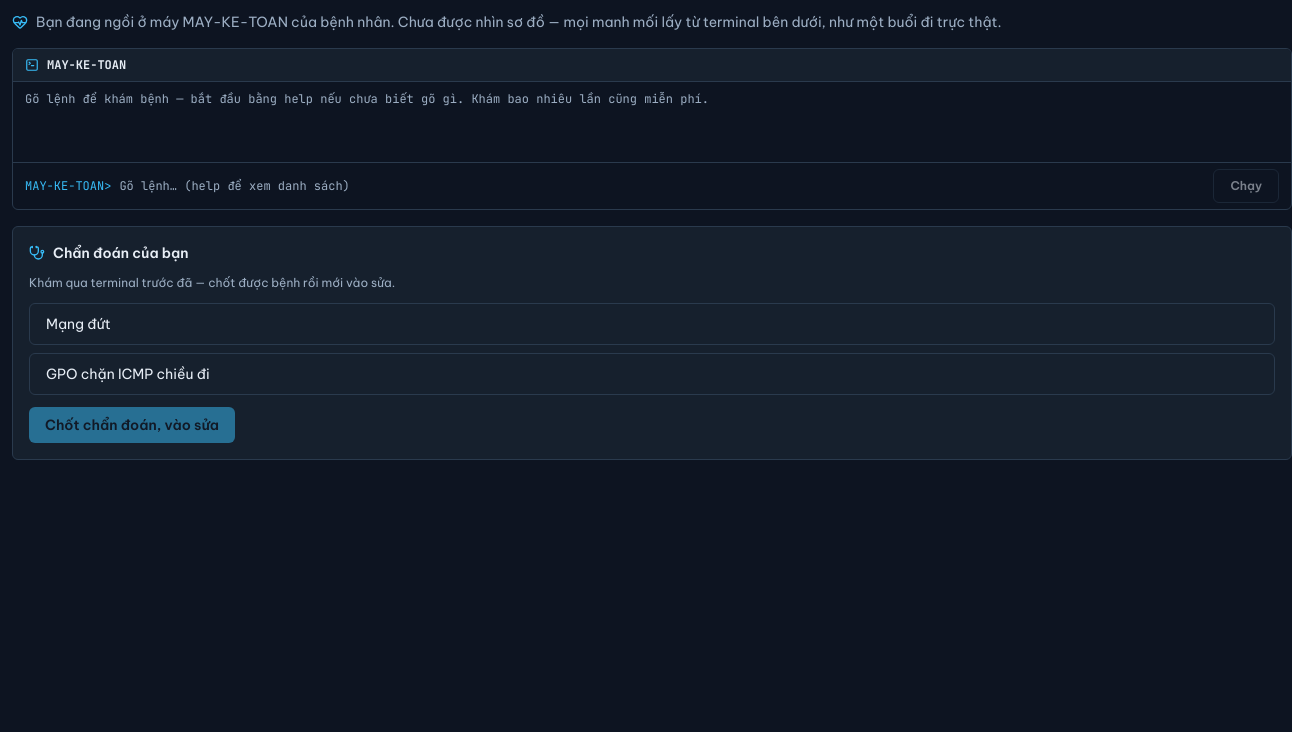
Test: pha khám — chỉ có terminal, không sơ đồ › gpresult lôi được thủ phạm của ca GPO ra ánh sáng
This screenshot has width=1292, height=732.
Type "gpresult" into the field named "Ô gõ lệnh" at (662, 186), box [119,174,1205,198]
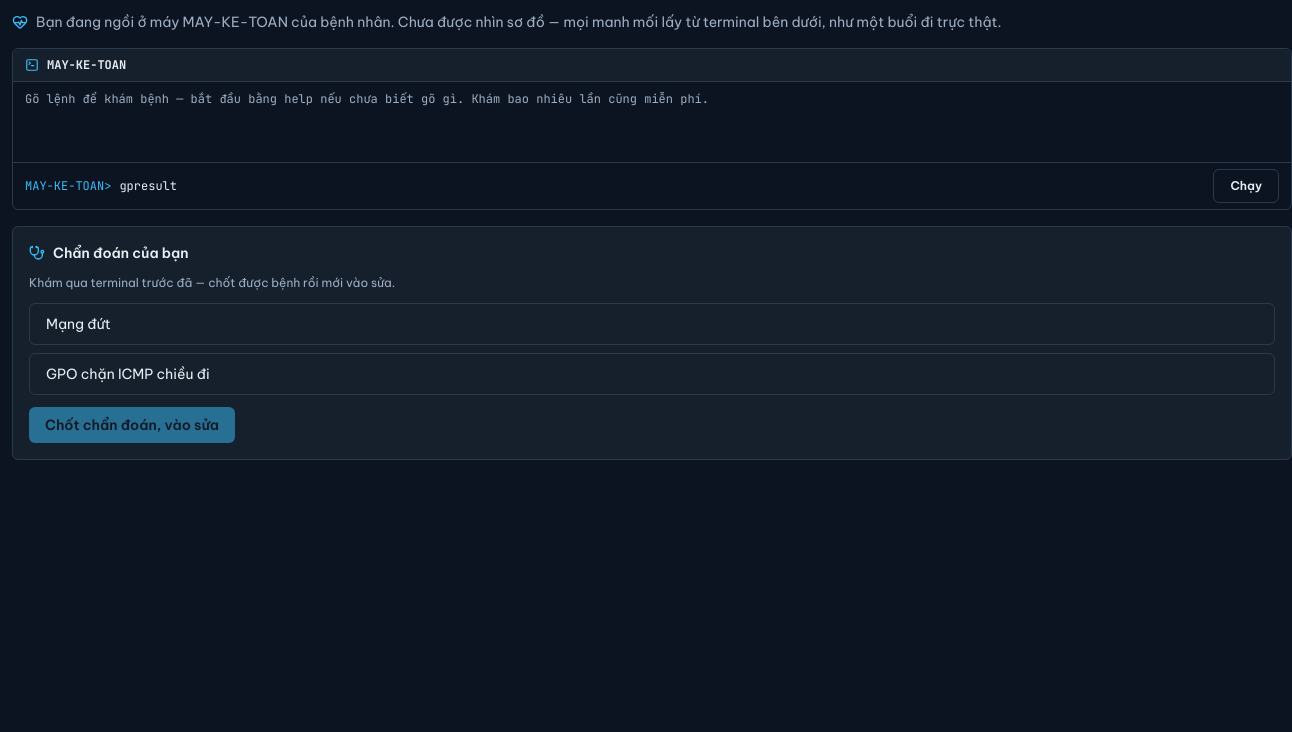
Click the button "Chạy" at (1246, 186), box [1213,169,1279,203]
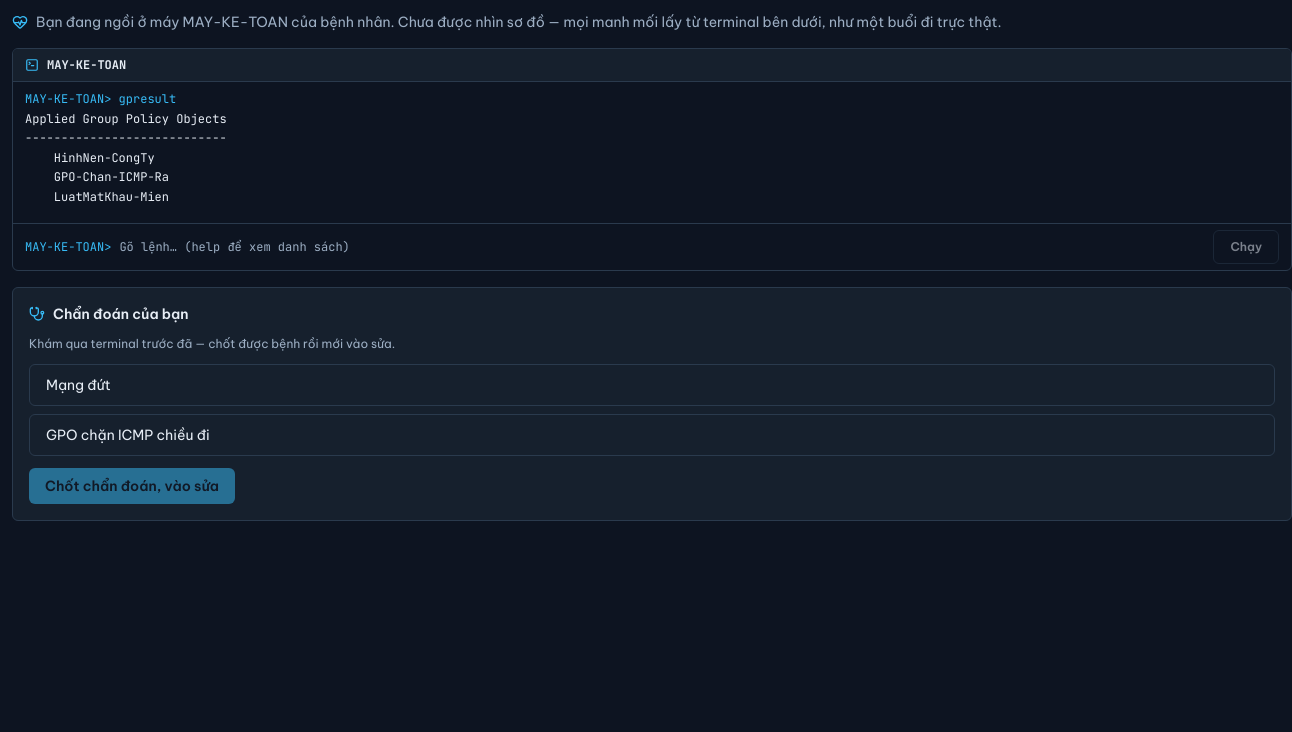
Now the text "GPO-Chan-ICMP-Ra" is shown, box [25,110,227,204]
